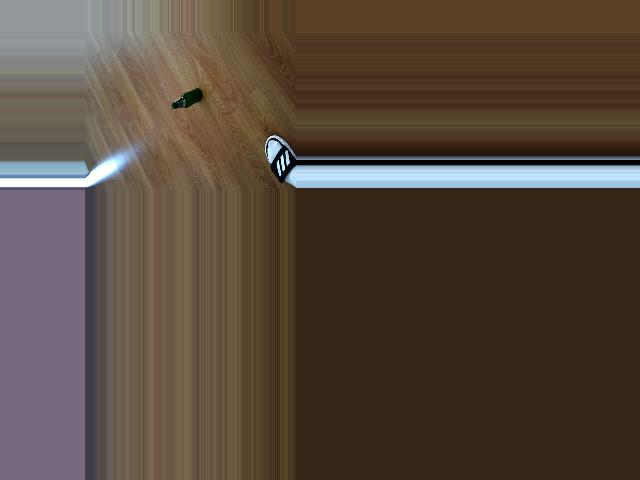beer: (172, 89, 202, 109)
